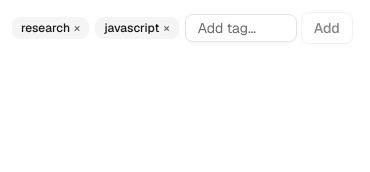
Scenario: TagInput › rolls back and shows an error when removing a tag fails
Click the button named "Remove tag research" at (77, 28), box [74,20,80,36]
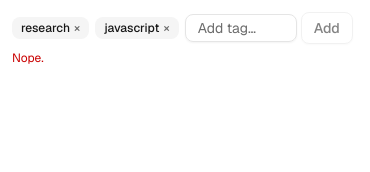
expect the message reads "Nope.": met, box [12,50,44,66]
